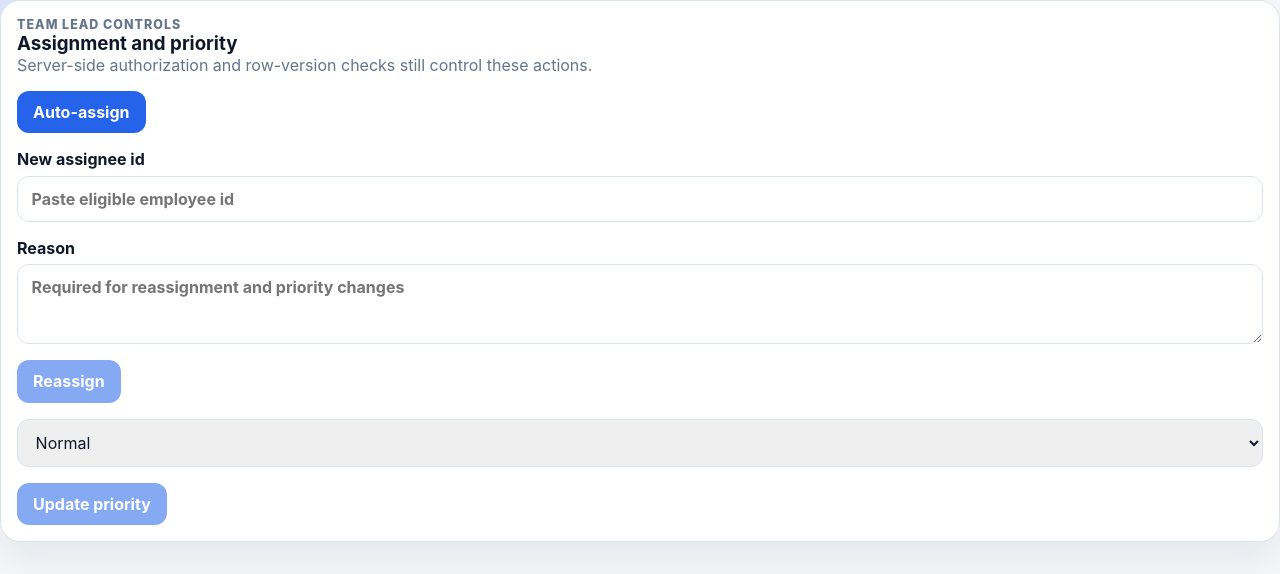
Test case: TeamAssignmentPanel › requires a reason before reassignment
Expected: the button "Reassign" is disabled, 17,360 -> 121,403
Type "employee-id" into the field labelled "New assignee id" at (640, 199), box 17,176 -> 1263,222
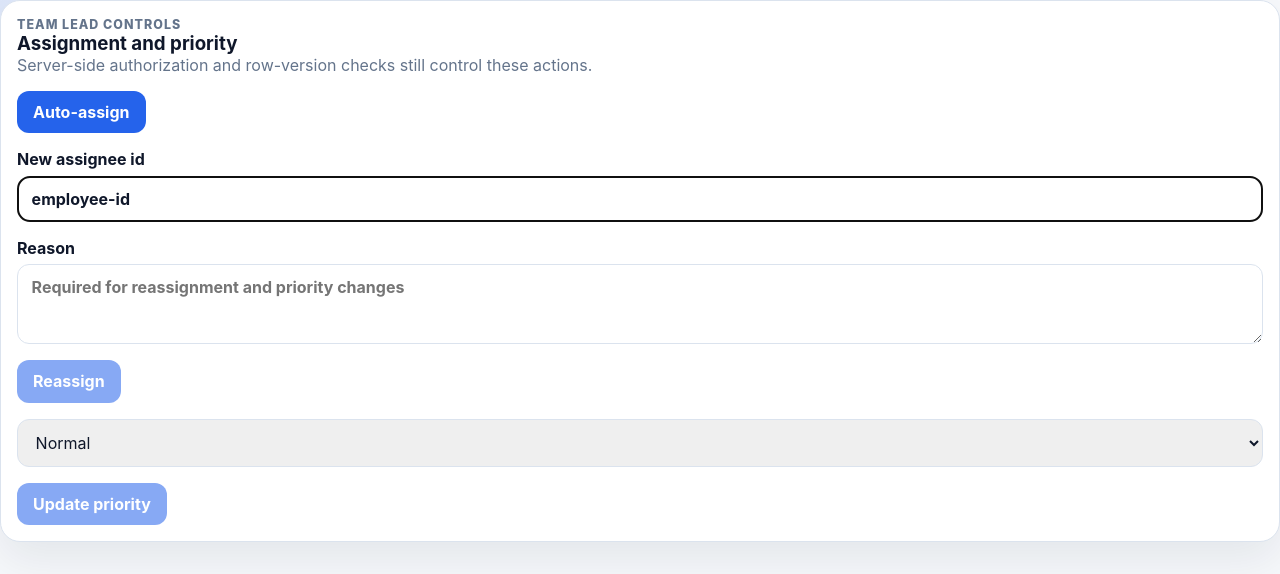
Expected: the button "Reassign" is disabled, 17,360 -> 121,403
Type "Balance workload." into the text box labelled "Reason" at (640, 304), box 17,264 -> 1263,344
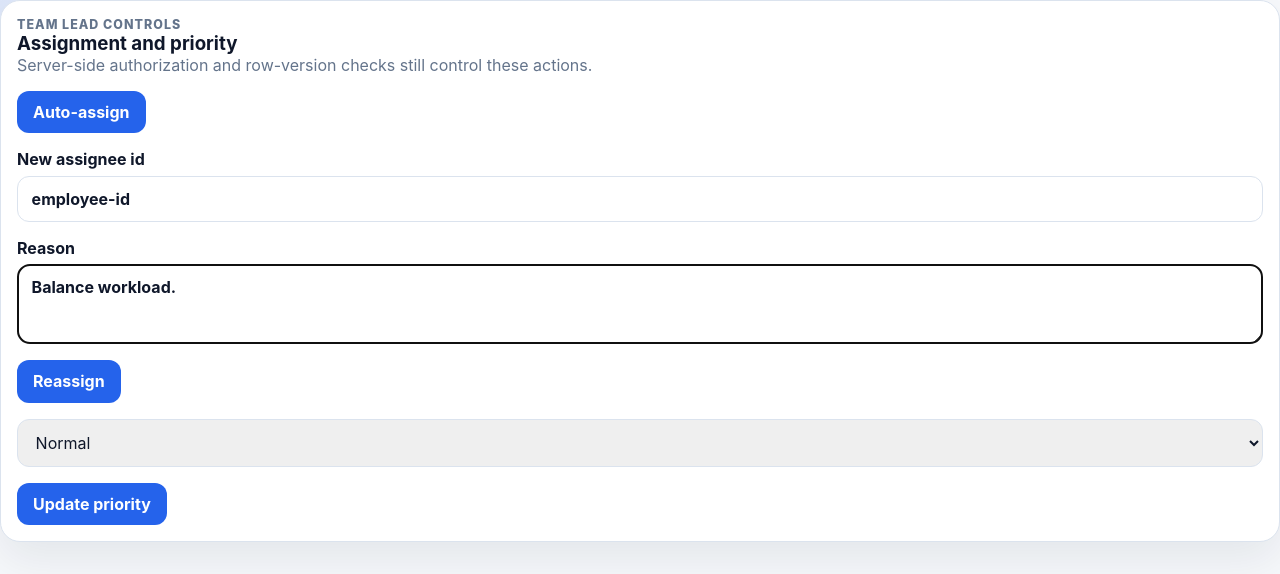
Expected: the button "Reassign" is enabled, 17,360 -> 121,403
